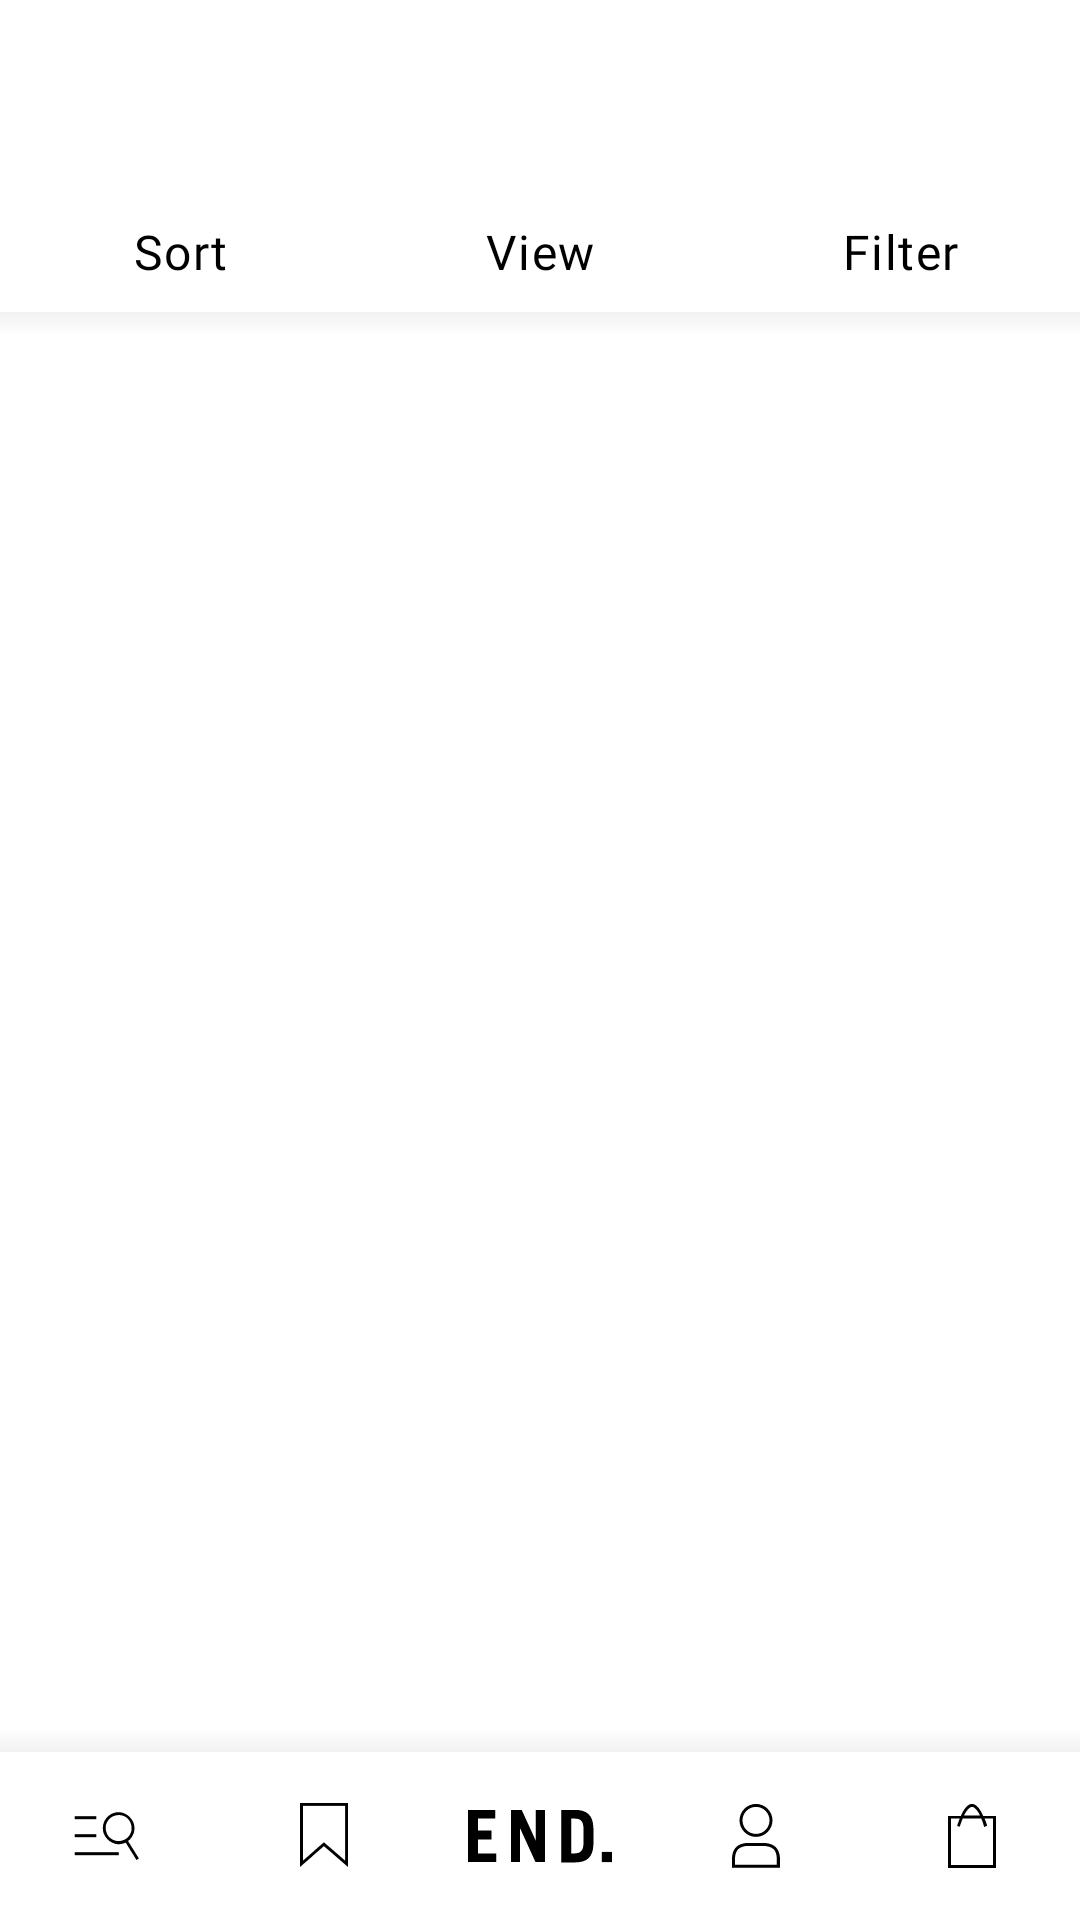

Point at icon controls on the screen. Image size 1080×1920, points as (x,y).
account: (756,1836)
basket: (972,1836)
search: (106,1836)
wishlist: (324,1835)
